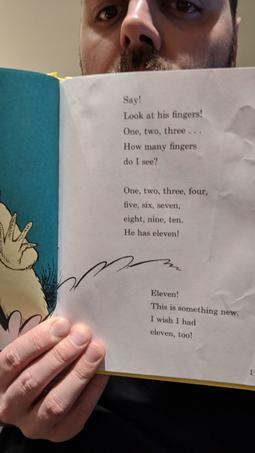text block: (117, 91, 211, 172), (113, 180, 212, 249), (144, 282, 241, 346)
